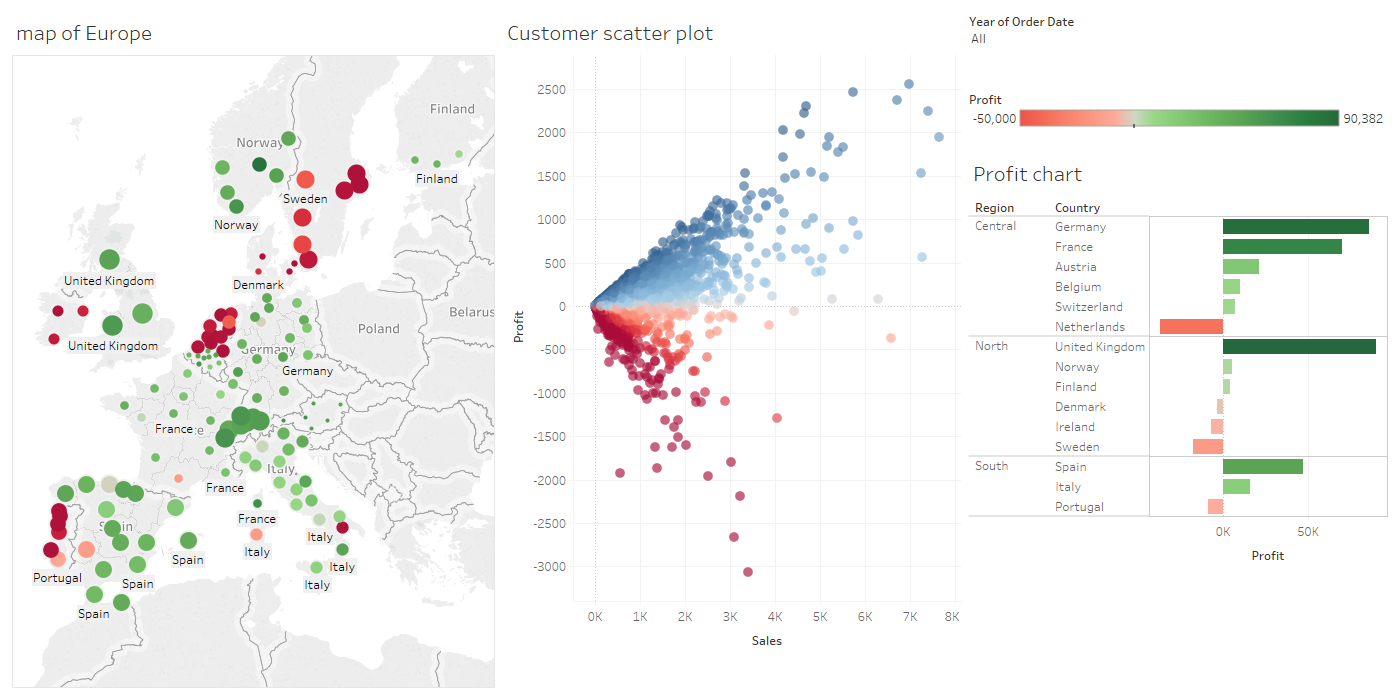

The dashboard page shown, as its layout file describes it:
{"tool":"tableau","page":{"name":"Dashboard 1","canvas":[1400,700],"ordinal":0},"visuals":[{"type":"worksheet","title":"map of Europe","mark":"Automatic","box":[8,8,491,684]},{"type":"worksheet","title":"Customer scatter plot","mark":"Automatic","rows":["Profit"],"cols":["Sales"],"box":[499,8,466,652]},{"type":"filter","title":"Customer scatter plot","param":"[federated.1ibxtbl0121zcg1h3kil91vzwbf4].[yr:Order Date:ok]","box":[965,8,427,75]},{"type":"legend","title":"Profit chart","param":"[federated.1ibxtbl0121zcg1h3kil91vzwbf4].[sum:Profit:qk]","box":[965,83,427,65]},{"type":"worksheet","title":"Profit chart","mark":"Automatic","rows":["Region","Country"],"cols":["Profit"],"box":[965,148,427,512]}]}

Visuals, with their boxes in screenshot pixels (x1, y1, x2, y2), scaled from the page's 1400x700 canvas onto the 1400x700 screenshot:
"map of Europe" worksheet: (left=8, top=8, right=499, bottom=692)
"Customer scatter plot" worksheet: (left=499, top=8, right=965, bottom=660)
"Customer scatter plot" filter: (left=965, top=8, right=1392, bottom=83)
"Profit chart" legend: (left=965, top=83, right=1392, bottom=148)
"Profit chart" worksheet: (left=965, top=148, right=1392, bottom=660)
